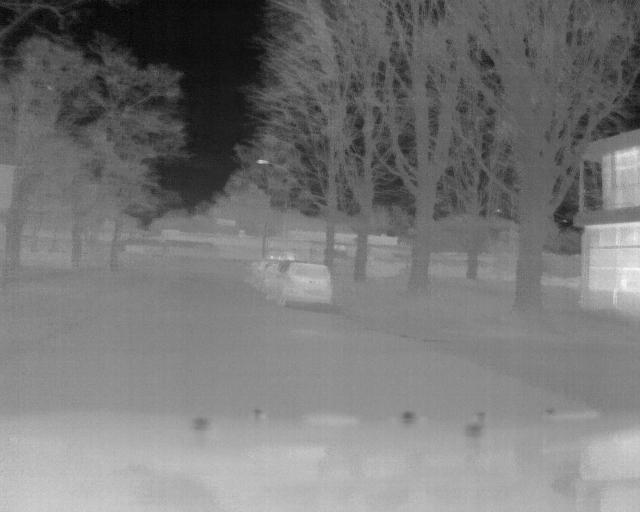car: (269, 261, 335, 310)
